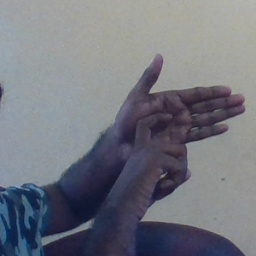R: (112, 53, 246, 194)
